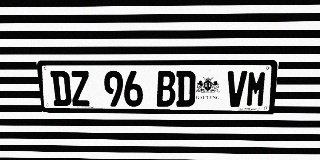6: (123, 71, 143, 106)
9: (104, 71, 124, 106)
B: (156, 71, 175, 107)
D: (50, 71, 72, 106), (176, 71, 196, 107)
M: (245, 71, 268, 107)
V: (226, 71, 247, 107)
Z: (69, 71, 91, 106)
